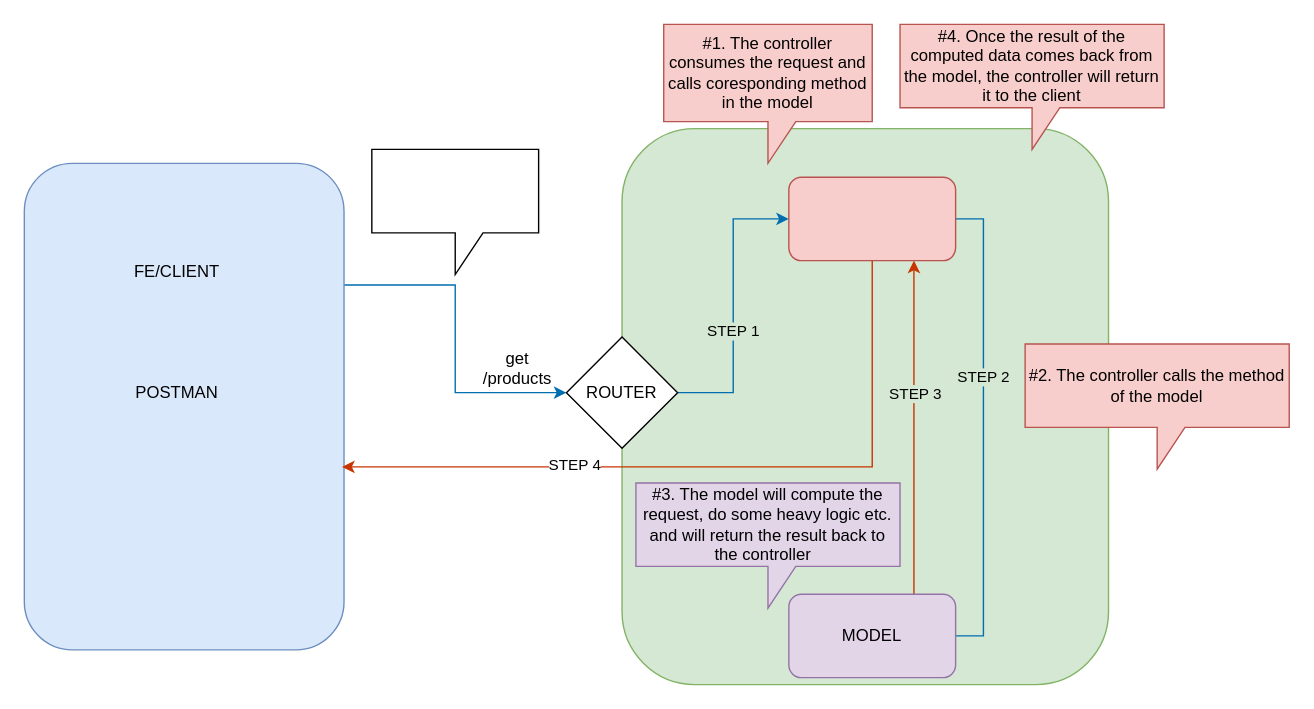
Some shapes in this 1314 by 709 pixel diagram are drawn without their labels. The centre of each missing label's shape, as x and y in pixels:
"CONTROLLER" goes at (x=871, y=218).
"we make request to the server, on endpoint: /products" goes at (x=454, y=211).
